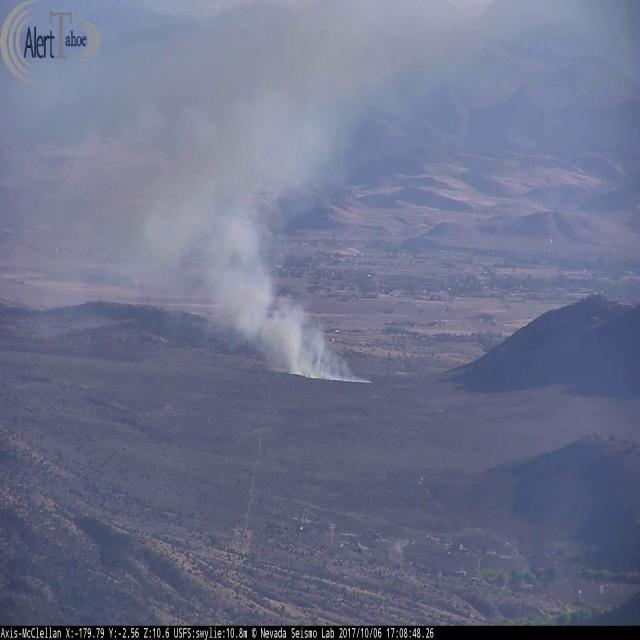smoke: (124, 4, 391, 389)
